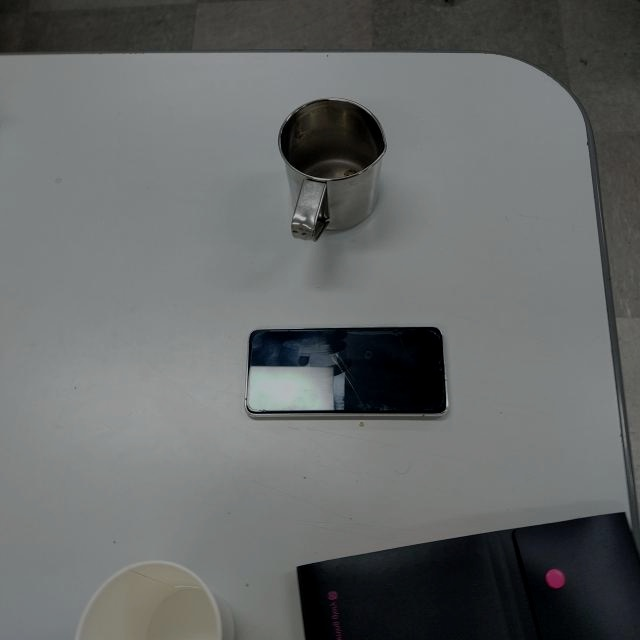cup: (279, 94, 392, 245)
phone: (245, 322, 451, 423)
